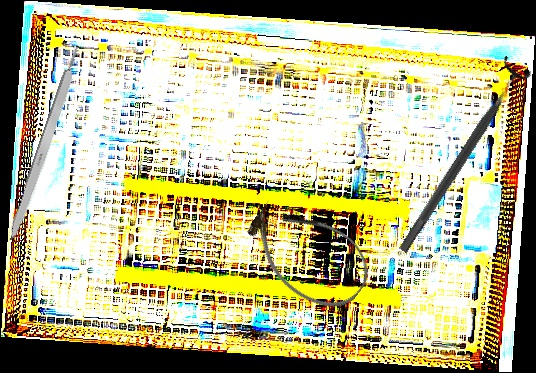Cannula: (233, 184, 383, 324)
Fixation Ring: (387, 54, 535, 261)
Scalpel Handle: (6, 45, 86, 243)
